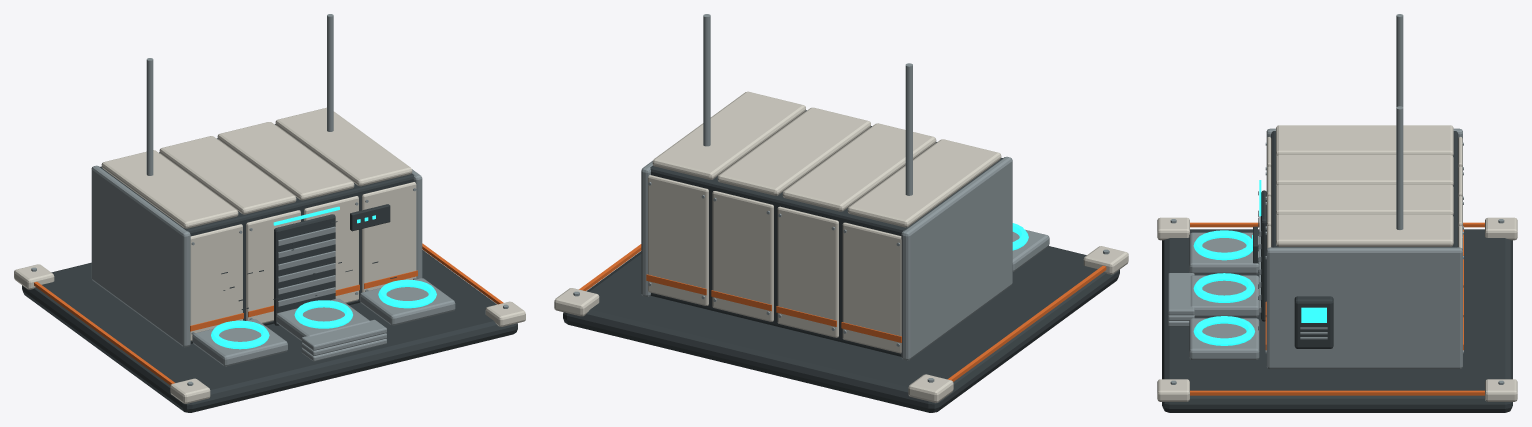
File: SM_LogisticsHub_Body.fbx
3 views of the same model, side by side, from view 1: azimuth 30°, elevation 25°; view 2: azimuth 150°, elevation 25°; view 3: azimuth 270°, elevation 25° (orthographic). The views are drawn at different scales.
Visible parts, largest first — view 1: SM_LogisticsHub_Body; view 2: SM_LogisticsHub_Body; view 3: SM_LogisticsHub_Body.
Part boxes in pixels (x1,y1,x2,y2): SM_LogisticsHub_Body: (14, 14, 525, 412); SM_LogisticsHub_Body: (554, 14, 1128, 412); SM_LogisticsHub_Body: (1157, 14, 1517, 412).
Size of the model in its own units: 532 by 462 by 380.
